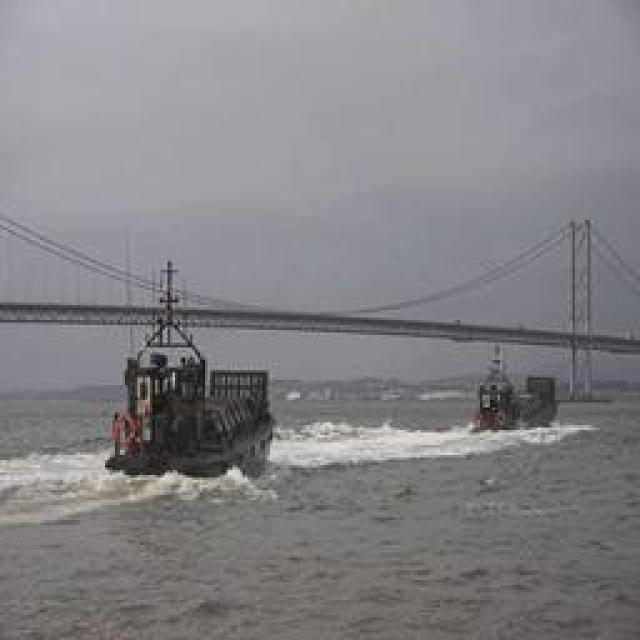Ship: (110, 249, 278, 484)
